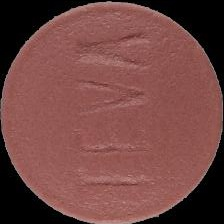0093-0073: (0, 0, 224, 224)
